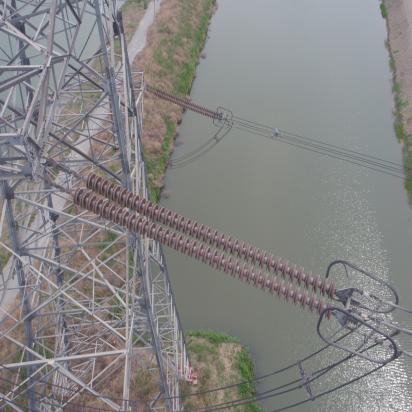insulator: (60, 169, 343, 322), (150, 87, 220, 122)
